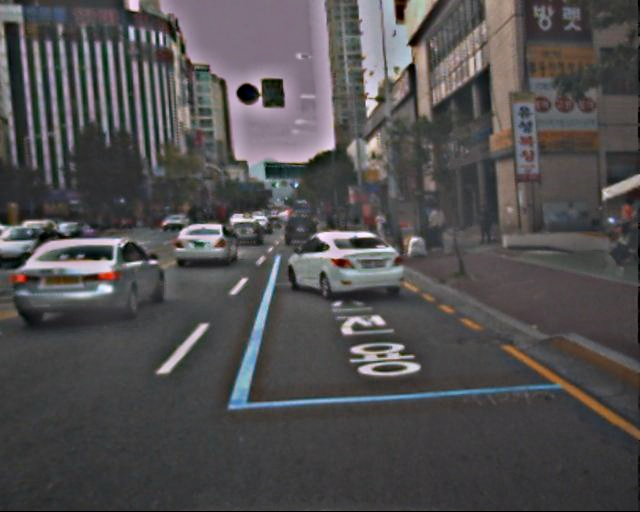person: (618, 199, 639, 250), (425, 204, 445, 253), (476, 202, 495, 248), (373, 210, 389, 248)
